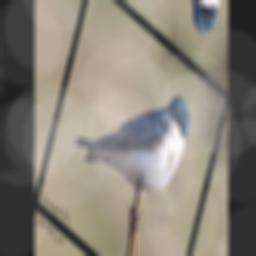Swallow: (71, 25, 195, 231)
